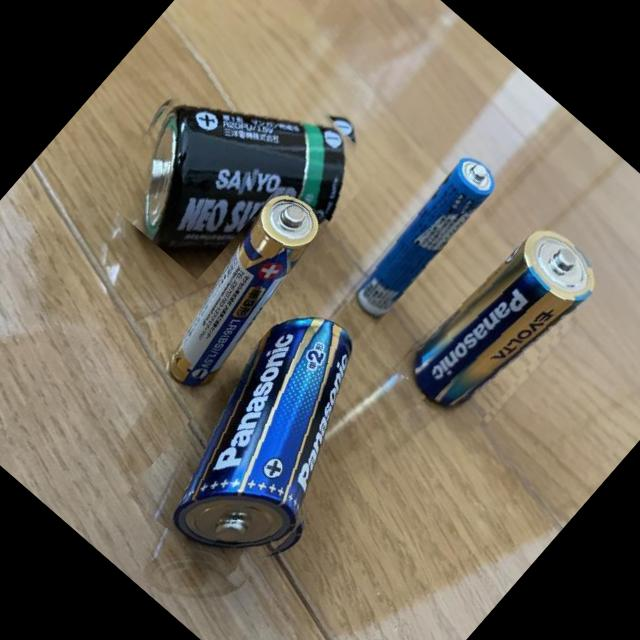Hazard: (85, 15, 392, 322), (125, 289, 426, 602), (386, 206, 608, 439), (137, 180, 345, 402), (340, 148, 504, 326)
